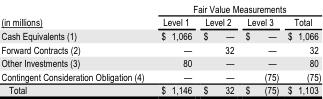table: (0, 0, 320, 96)
table column: (0, 0, 151, 96), (151, 0, 196, 96), (196, 0, 239, 96), (239, 0, 282, 96), (282, 0, 320, 96)
table column header: (0, 0, 320, 28)
table row: (0, 0, 320, 14), (0, 14, 320, 28), (0, 41, 320, 55), (0, 55, 320, 69), (0, 82, 320, 96), (0, 28, 320, 41), (0, 69, 320, 82)
table spanning cell: (0, 0, 151, 28), (151, 0, 320, 14)
